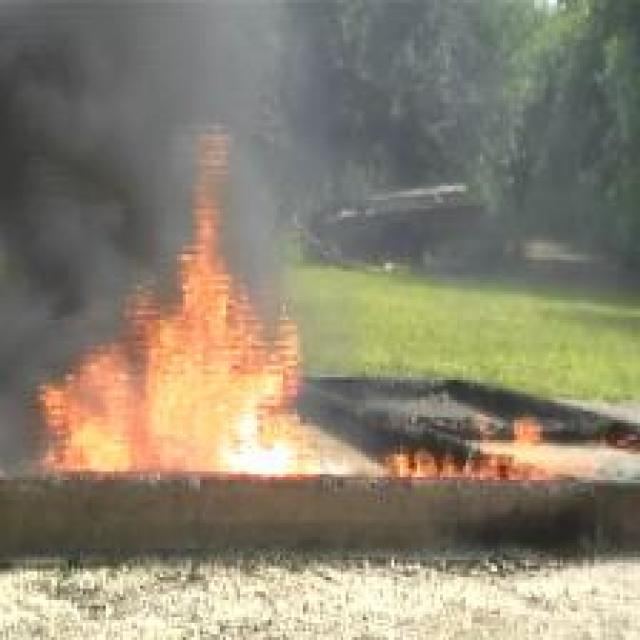Fire: (41, 126, 328, 474), (391, 414, 598, 477)
